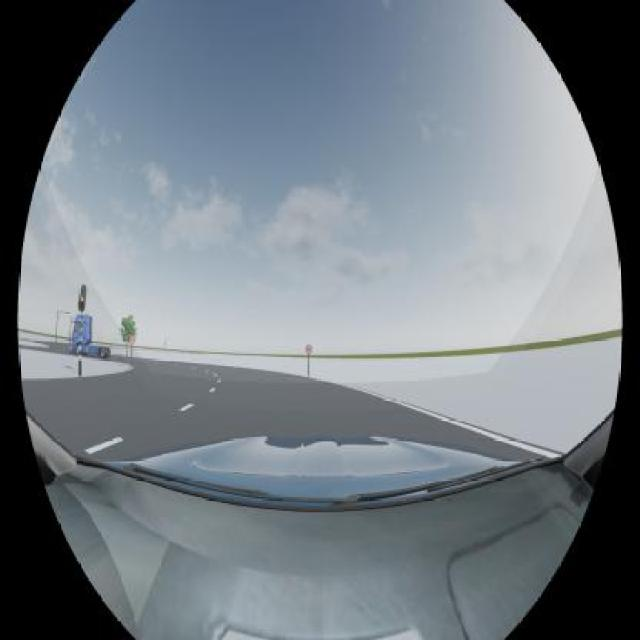forb_speed_over_80: (306, 345, 312, 354)
